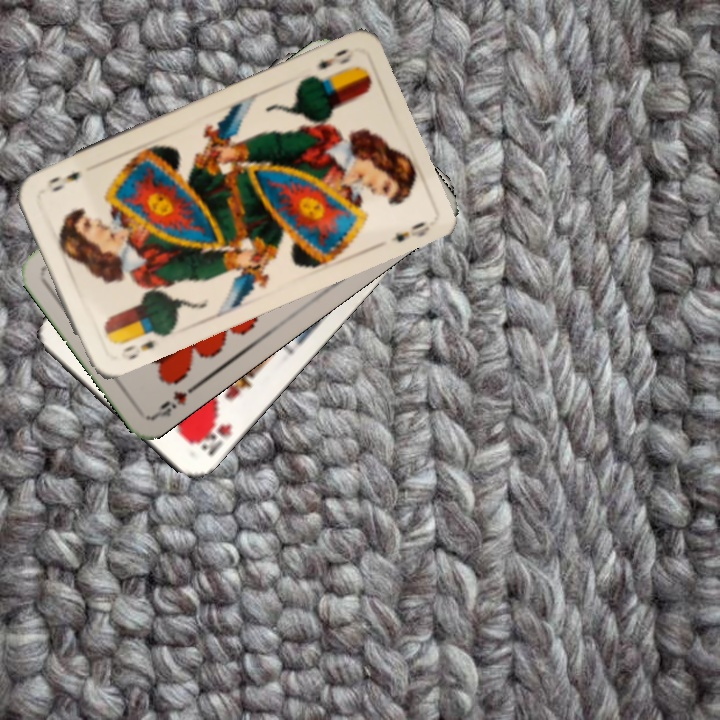EO: (314, 44, 357, 73), (118, 335, 159, 363)
H9: (150, 379, 202, 421)
HK: (188, 410, 235, 459)
